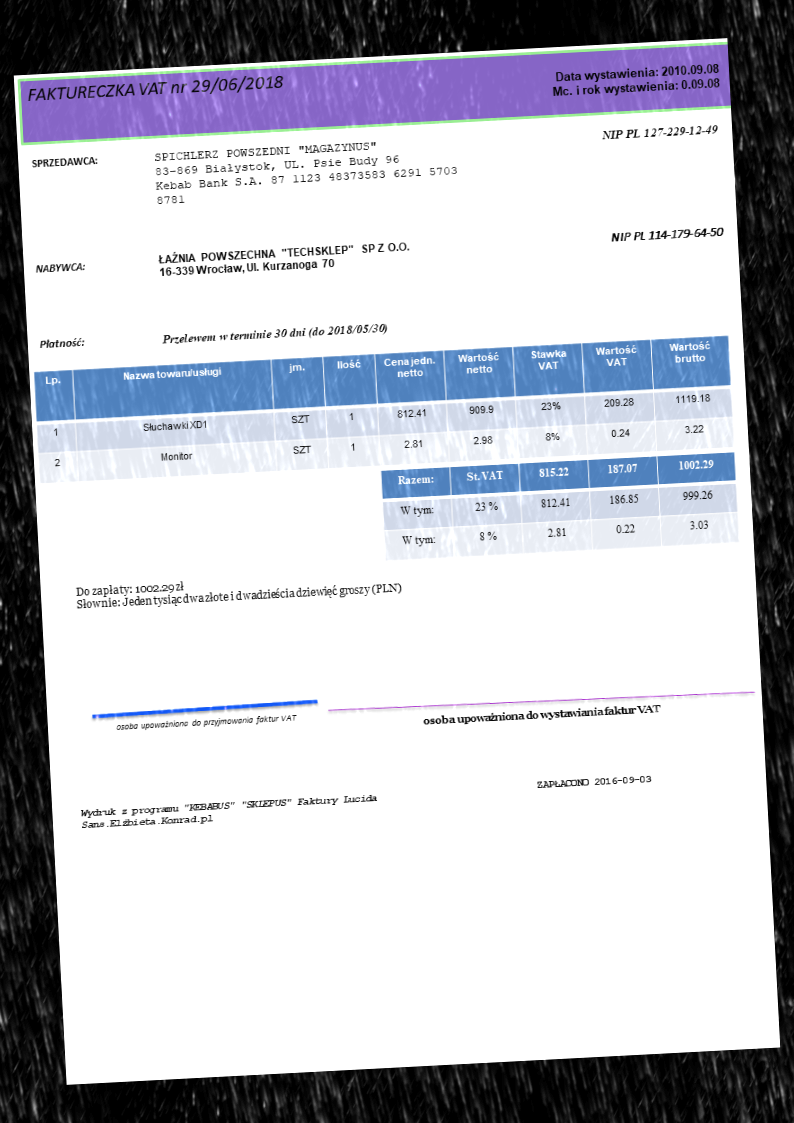Table: (31, 334, 736, 485), (380, 450, 740, 562)
TextBox: (152, 133, 460, 207), (73, 567, 403, 613), (78, 790, 380, 831), (156, 237, 411, 279), (25, 71, 286, 106), (421, 699, 663, 728), (549, 60, 722, 100), (159, 320, 391, 349), (112, 711, 298, 734), (600, 121, 720, 143), (535, 772, 653, 792), (609, 225, 727, 244), (29, 153, 101, 170), (32, 259, 89, 276), (37, 334, 87, 351)
